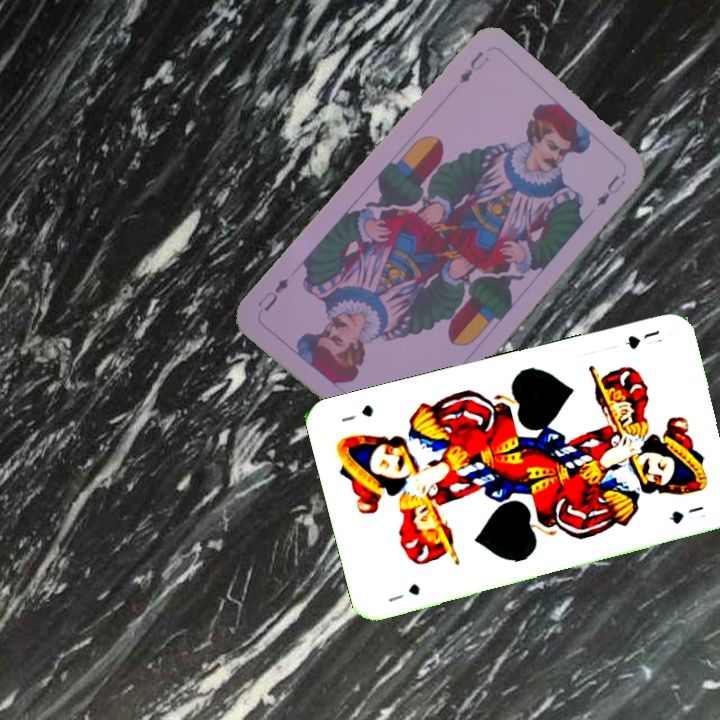EU: (454, 47, 492, 86)
GU: (621, 326, 665, 352), (384, 580, 423, 605)
